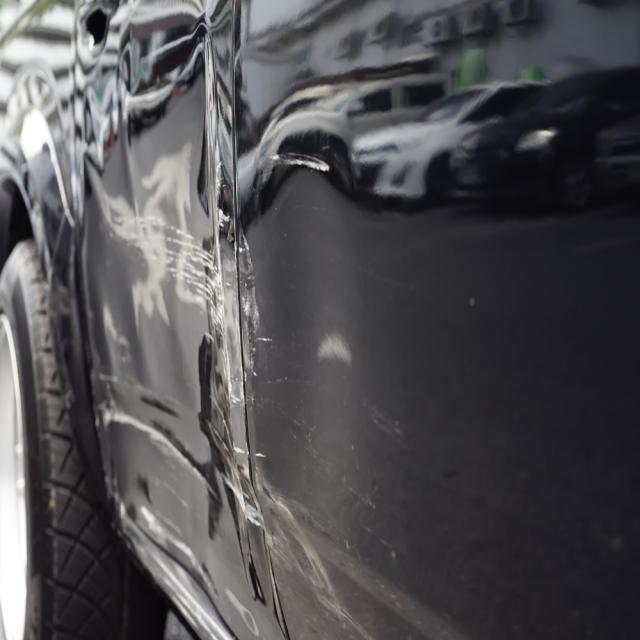Cabossage: (65, 74, 248, 639)
Rayure: (101, 374, 272, 640), (110, 196, 261, 357), (312, 590, 380, 640), (314, 317, 362, 378), (273, 148, 334, 195)
